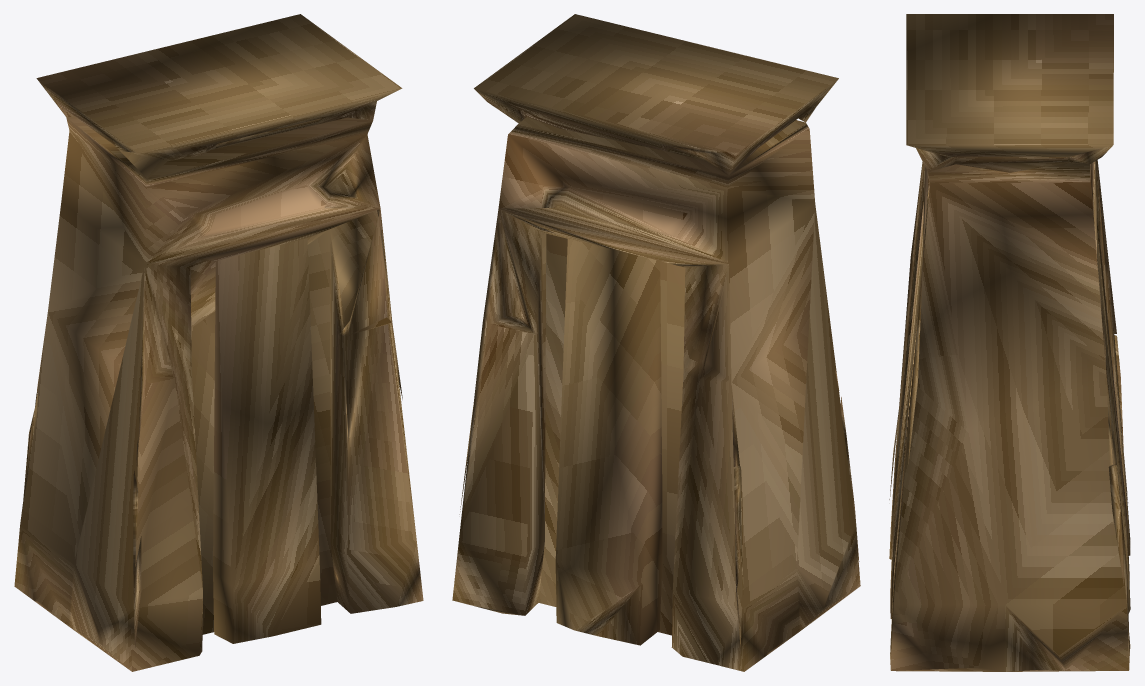
File: pylone_lod.glb
The picture shows the model from 3 angles, left to right: view 1: azimuth 30°, elevation 25°; view 2: azimuth 150°, elevation 25°; view 3: azimuth 270°, elevation 25°; orthographic projection.
Size of the model in its own units: 0.5732 by 0.9492 by 0.3994.
1 material, 1 textured.
